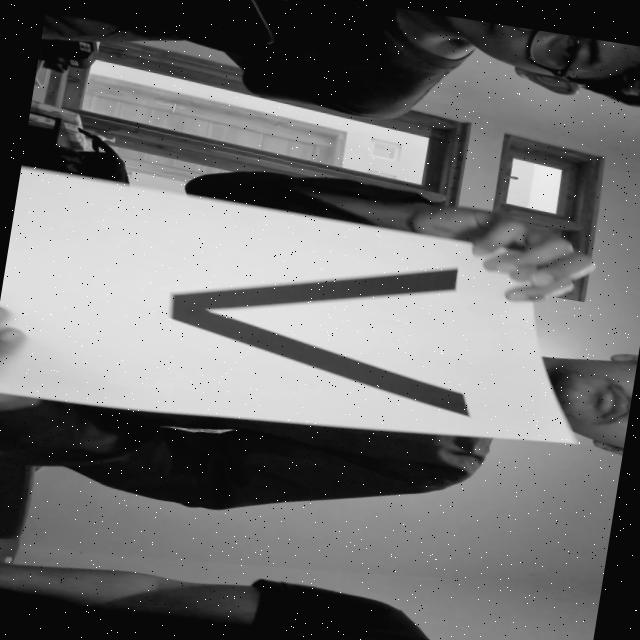v: (133, 210, 504, 422)
